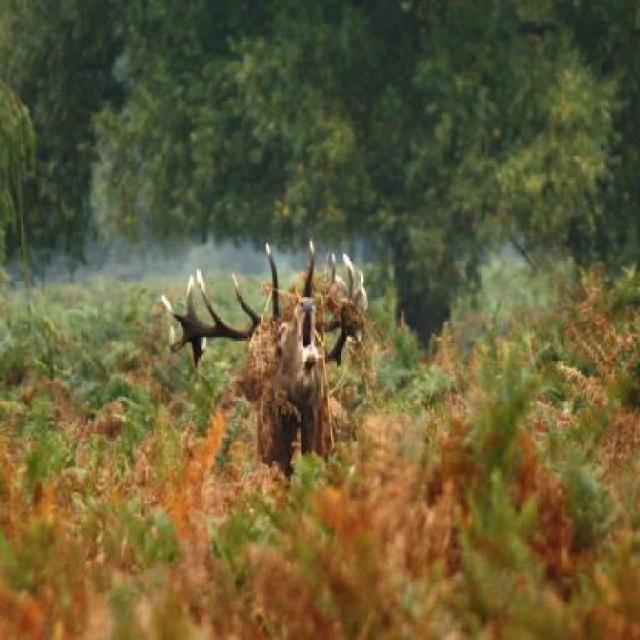Deer: (162, 238, 368, 477)
